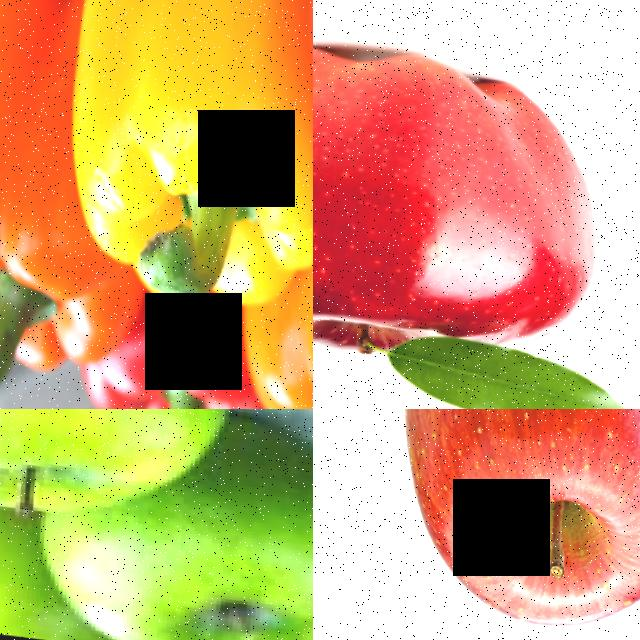apple: (313, 20, 626, 378), (366, 409, 640, 640), (24, 519, 313, 640), (0, 409, 219, 537)
bell pepper: (53, 0, 304, 292), (0, 0, 105, 376), (116, 323, 249, 409), (242, 291, 313, 409)
